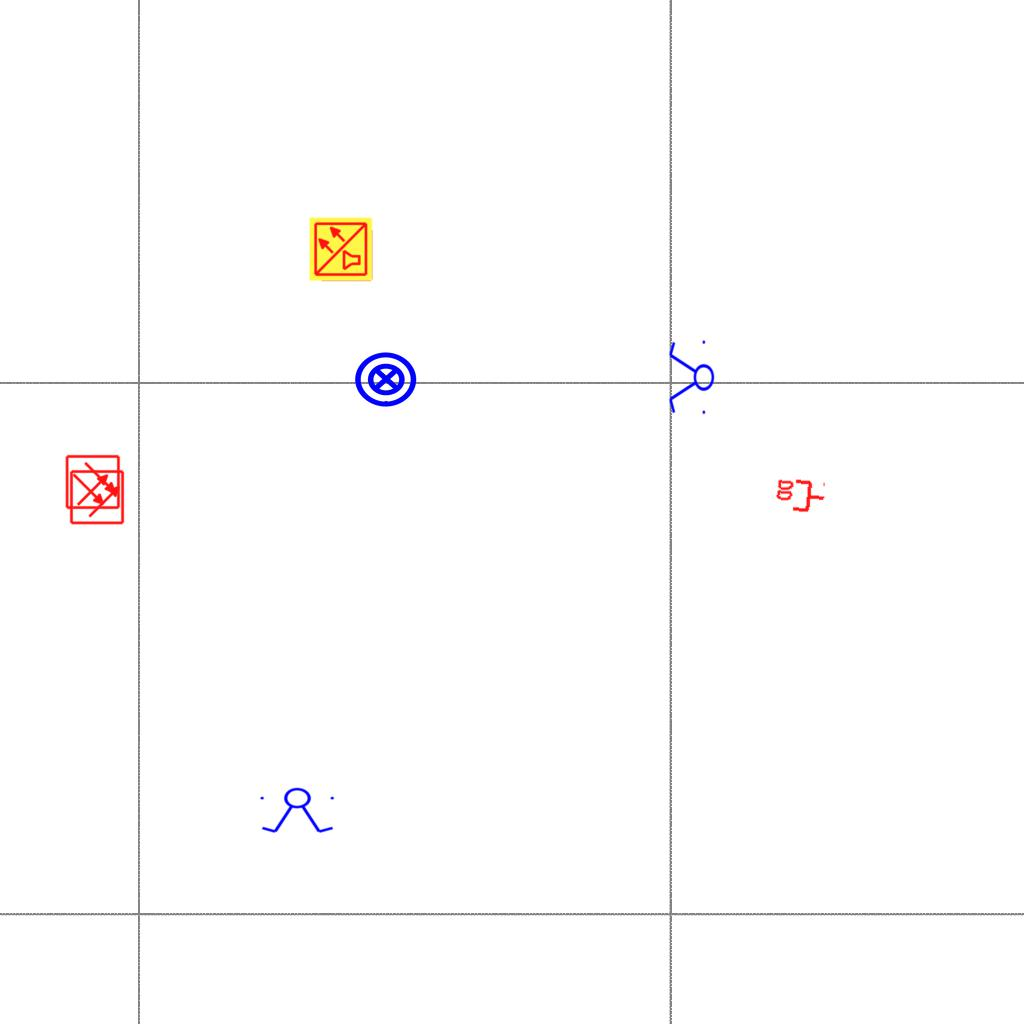Datenanschluss_zweifach: (772, 476, 828, 517)
OKW_Multisensormelder_(Kombination_optischer_Rauch-Kahlenmonoxid_Waerme-Melder): (308, 216, 374, 282)
RMO_Rauchmelder_optischer: (65, 454, 121, 510), (69, 469, 125, 525)
Serienschalter: (667, 336, 715, 420), (256, 787, 340, 835)
Taster_beleuchtet: (353, 346, 419, 412)
